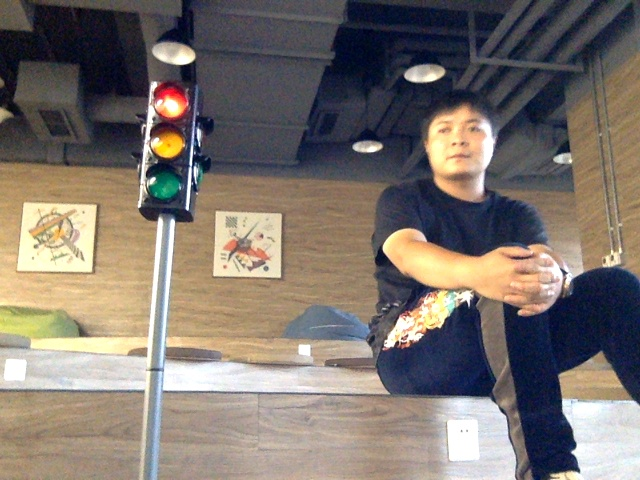red: (148, 84, 185, 199)
